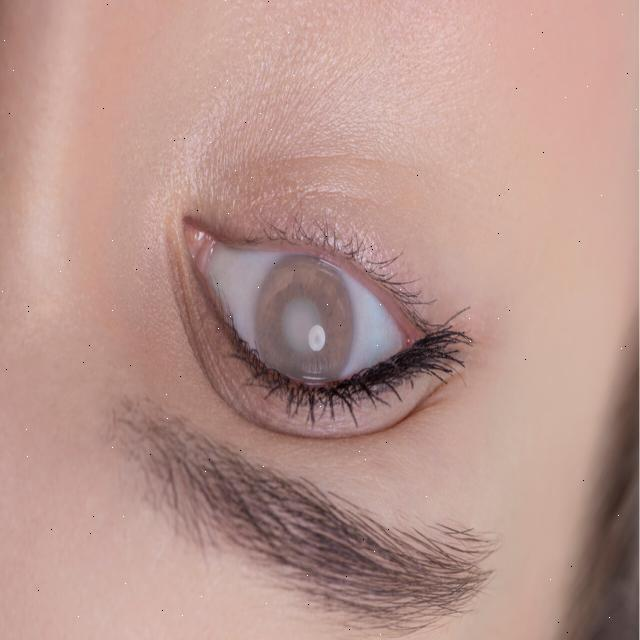Cataract: (256, 252, 358, 391)
